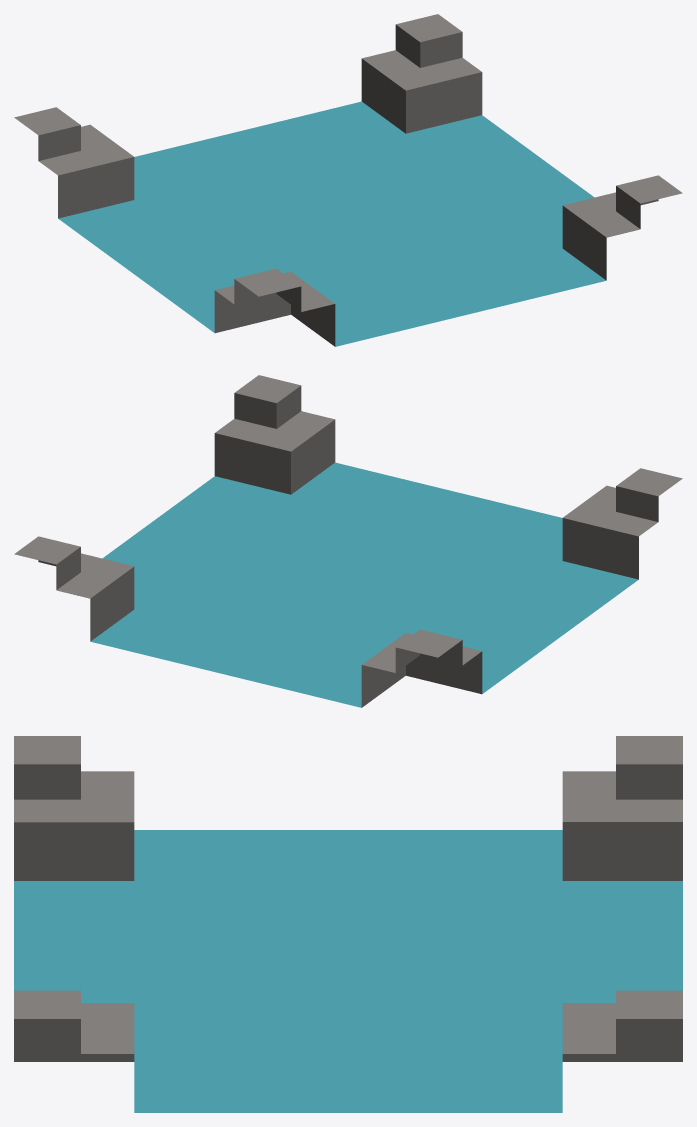
The model's file is SF_Bld_Elven_Stream_Intersection_01.fbx.
3 renders of one model, top to bottom at view 1: azimuth 30°, elevation 25°; view 2: azimuth 150°, elevation 25°; view 3: azimuth 270°, elevation 25°, orthographic. The views are drawn at different scales.
Parts seen in each view (by area): view 1: SF_Env_Elven_Stream_Intersection_01; view 2: SF_Env_Elven_Stream_Intersection_01; view 3: SF_Env_Elven_Stream_Intersection_01.
Part boxes in pixels (bbox=[...]): SF_Env_Elven_Stream_Intersection_01: bbox=[14, 14, 682, 346]; SF_Env_Elven_Stream_Intersection_01: bbox=[14, 375, 682, 707]; SF_Env_Elven_Stream_Intersection_01: bbox=[14, 736, 682, 1112].
Bounding box in the file's own units: 3 × 0.4654 × 3.
